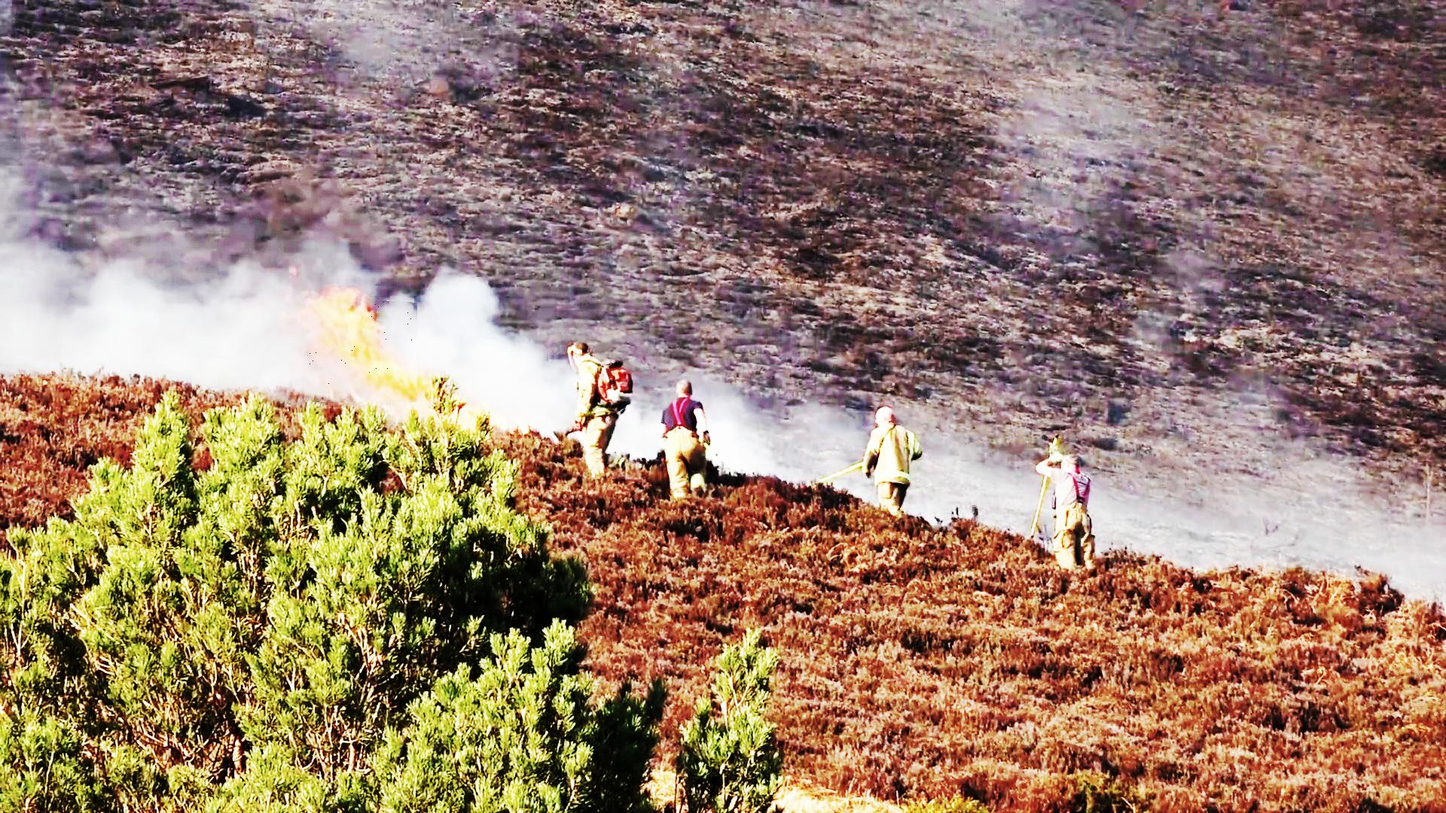fire: (306, 296, 419, 402)
